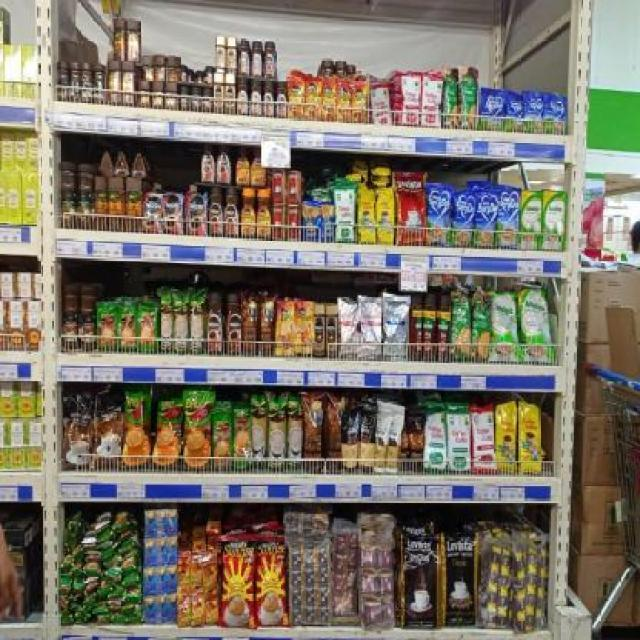Coffee: (275, 300, 294, 356), (294, 301, 314, 354), (207, 293, 224, 355), (186, 194, 208, 237), (226, 293, 240, 356), (162, 194, 184, 234), (223, 187, 240, 238), (240, 188, 256, 237), (144, 192, 162, 234), (208, 188, 223, 237), (216, 144, 232, 186), (256, 190, 270, 238), (321, 80, 337, 121), (305, 80, 321, 120), (201, 144, 216, 186), (288, 79, 304, 118), (313, 305, 325, 357), (351, 85, 366, 124), (236, 146, 250, 187), (251, 148, 266, 186), (337, 82, 351, 122), (326, 306, 337, 356), (262, 40, 276, 78), (236, 76, 249, 115), (249, 78, 262, 116), (262, 80, 275, 118), (238, 38, 250, 76), (213, 73, 224, 113), (276, 81, 288, 117), (250, 41, 262, 77), (227, 74, 236, 114), (216, 36, 226, 72), (227, 38, 236, 73), (190, 87, 202, 111), (180, 87, 190, 111), (202, 89, 212, 113)
